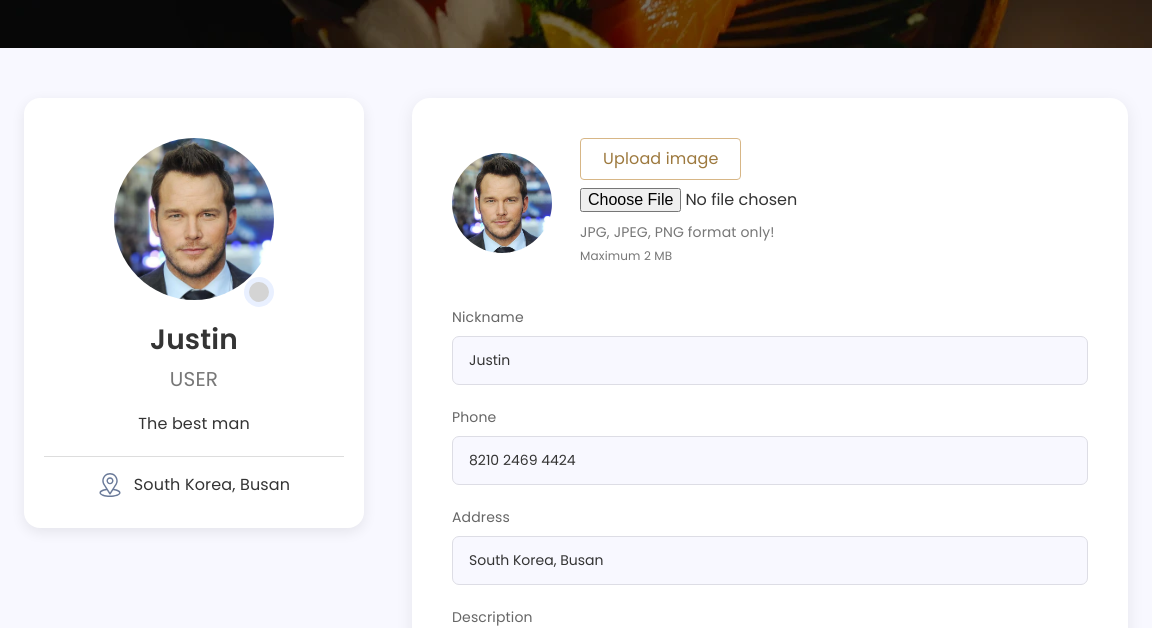
Test: guest profile edits are persisted in the browser
The width and height of the screenshot is (1152, 628).
(page scrolled)
Replace the text in the field labelled "Nickname" with "Ali". click: (770, 360)
box: [452,336,1088,385]
(page scrolled)
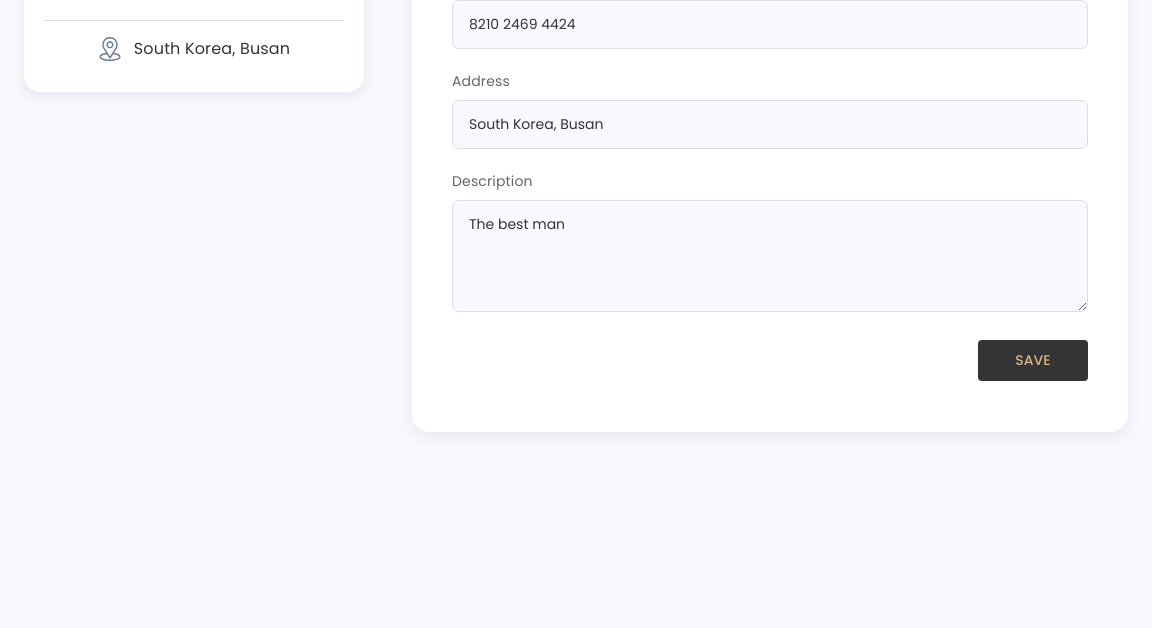
Click the button "SAVE". click: click(1033, 360)
box: [978,340,1088,381]
(page scrolled)
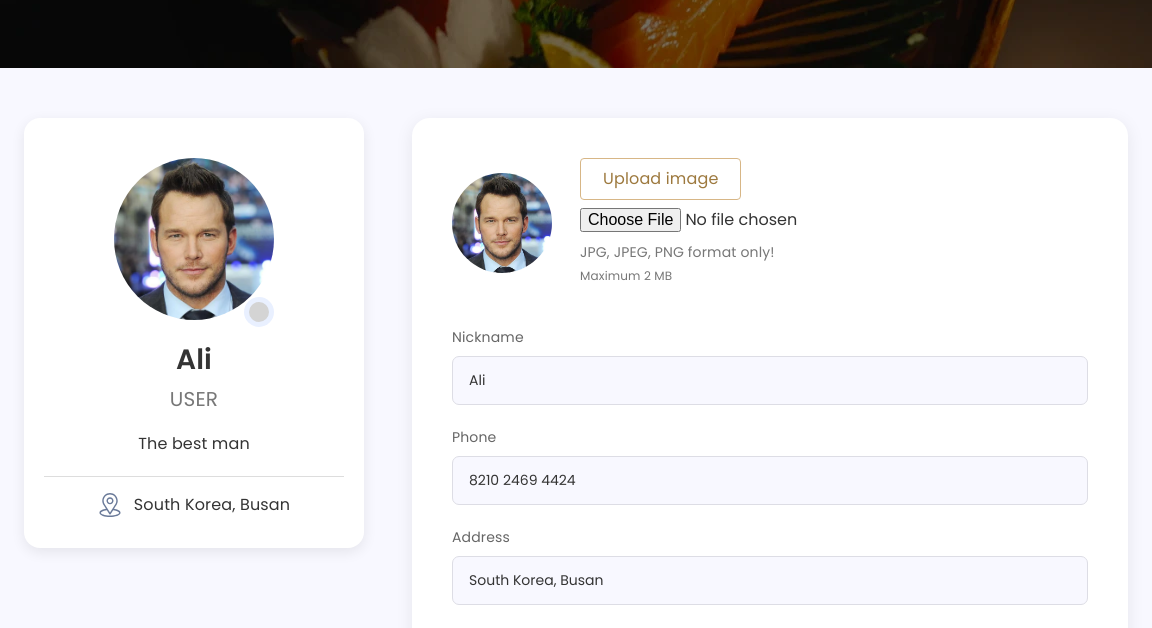
Expected: the heading "Ali" is shown, [176,340,212,379]
